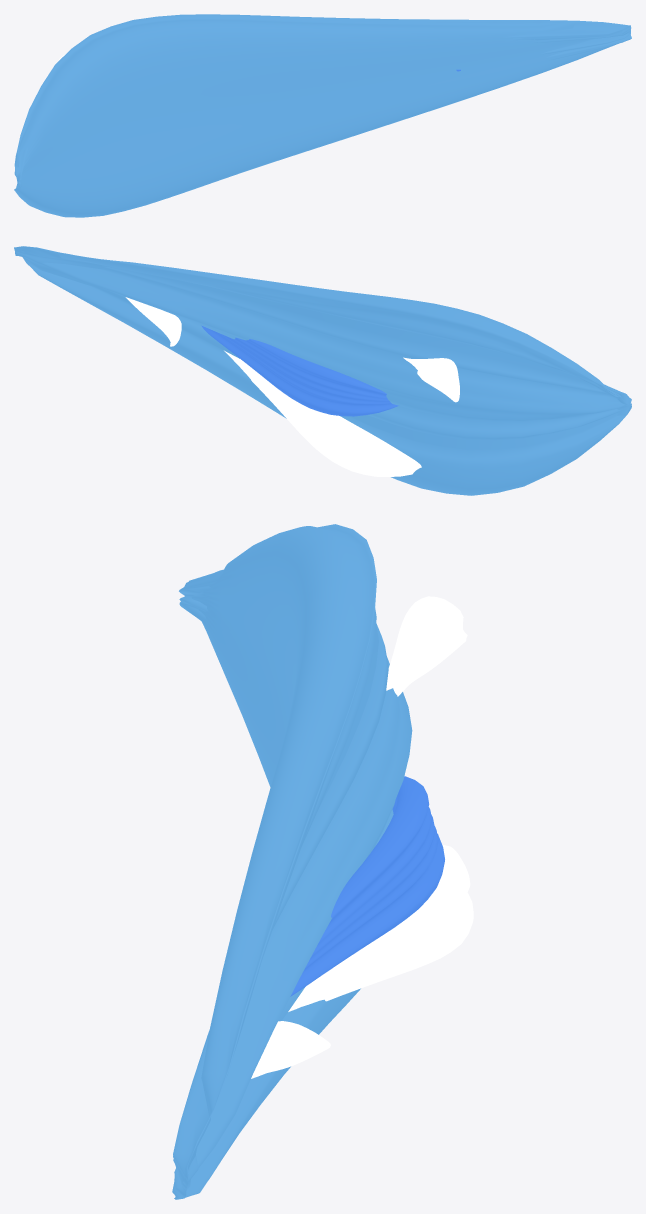
File: ABF2.glb
3 renders of one model, top to bottom at view 1: azimuth 30°, elevation 25°; view 2: azimuth 150°, elevation 25°; view 3: azimuth 270°, elevation 25°, orthographic. The views are drawn at different scales.
Parts seen in each view (by area): view 1: BezierCurve.002; view 2: BezierCurve.002, BezierCurve.003, BezierCurve.004, BezierCurve.006, BezierCurve.005; view 3: BezierCurve.002, BezierCurve.003, BezierCurve.004, BezierCurve.006, BezierCurve.005.
Boxes of the visible parts, box(x1,y1,x2,y2) form: BezierCurve.002: box(14, 14, 631, 217); BezierCurve.002: box(14, 246, 631, 495); BezierCurve.003: box(201, 325, 398, 416); BezierCurve.004: box(224, 350, 421, 476); BezierCurve.006: box(403, 357, 459, 402); BezierCurve.005: box(125, 297, 181, 346); BezierCurve.002: box(172, 524, 412, 1199); BezierCurve.003: box(290, 776, 444, 996); BezierCurve.004: box(288, 845, 473, 1011); BezierCurve.006: box(386, 596, 467, 696); BezierCurve.005: box(251, 1021, 330, 1078).
Size of the model in its own units: 1.88 by 0.5253 by 0.4008.
3 materials, 2 textured.
